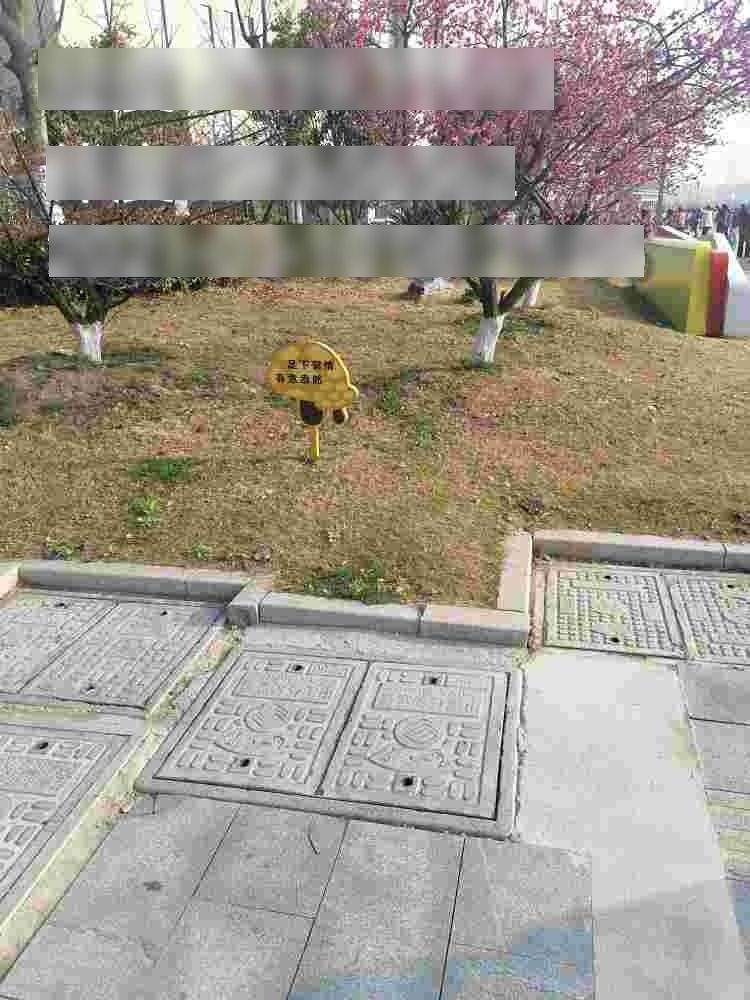good: (134, 638, 524, 847), (1, 727, 163, 979), (1, 589, 231, 714), (540, 554, 750, 683)
